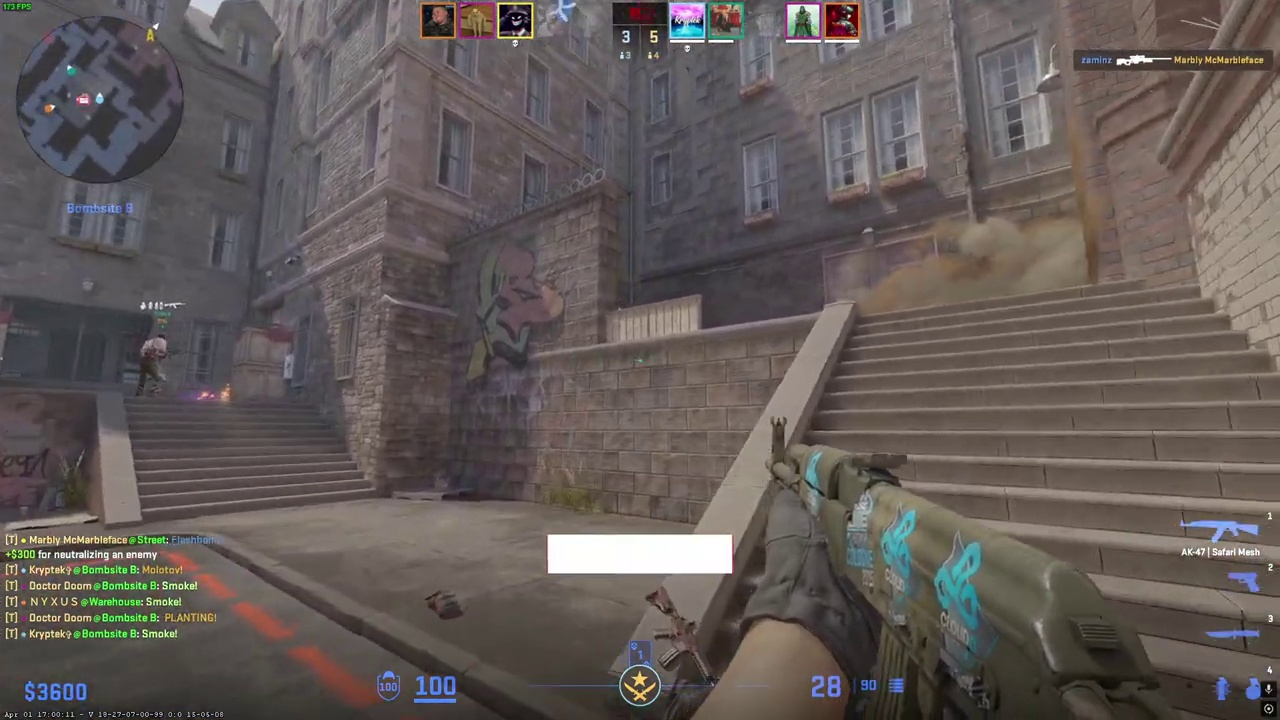Terrorist: (136, 333, 169, 398)
